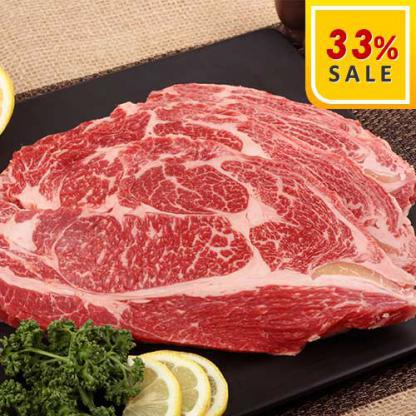beef: (17, 93, 416, 330)
